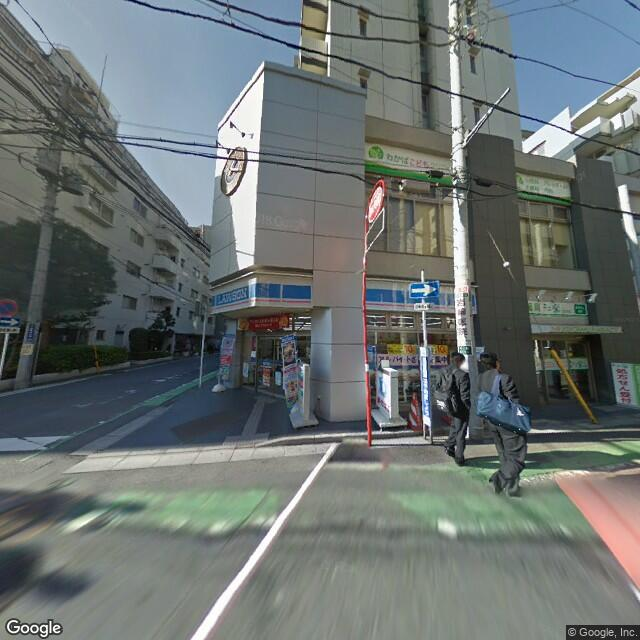lawson: (209, 269, 312, 314)
